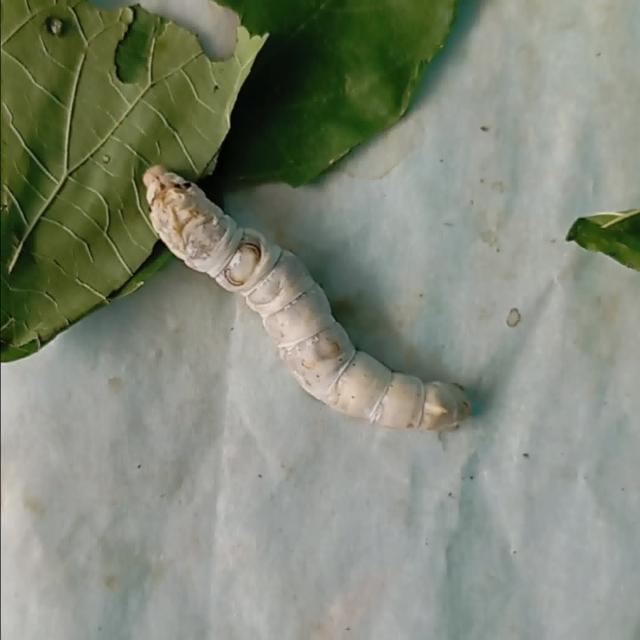Grasserie: (132, 152, 481, 452)
